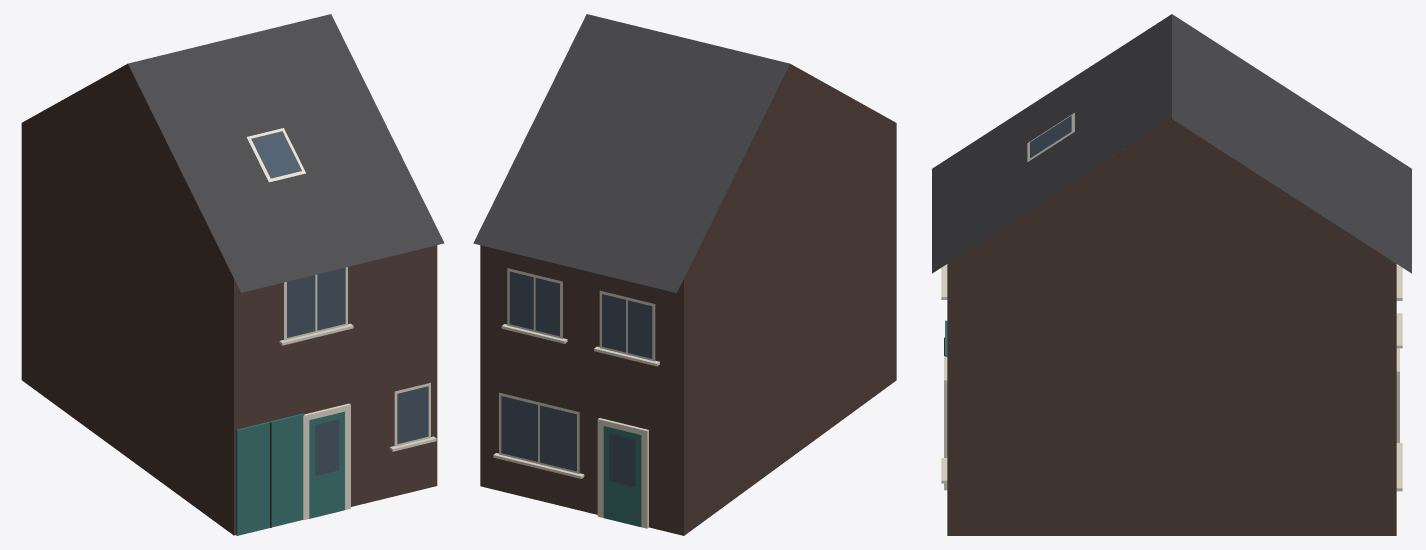
The model's file is nw-rowhouse-garage-door__teal-slate__2__gable__long__solid.glb.
3 renders of one model, left to right at view 1: azimuth 30°, elevation 25°; view 2: azimuth 150°, elevation 25°; view 3: azimuth 270°, elevation 25°, orthographic. The views are drawn at different scales.
Parts seen in each view (by area): view 1: nw-rowhouse-garage-door__teal-slate__2__gable__long__solid; view 2: nw-rowhouse-garage-door__teal-slate__2__gable__long__solid; view 3: nw-rowhouse-garage-door__teal-slate__2__gable__long__solid.
Part boxes in pixels (x1,y1,x2,y2): nw-rowhouse-garage-door__teal-slate__2__gable__long__solid: (21, 14, 444, 535); nw-rowhouse-garage-door__teal-slate__2__gable__long__solid: (473, 14, 896, 535); nw-rowhouse-garage-door__teal-slate__2__gable__long__solid: (932, 14, 1411, 535).
Size of the model in its own units: 4.85 by 8.98 by 9.37.
